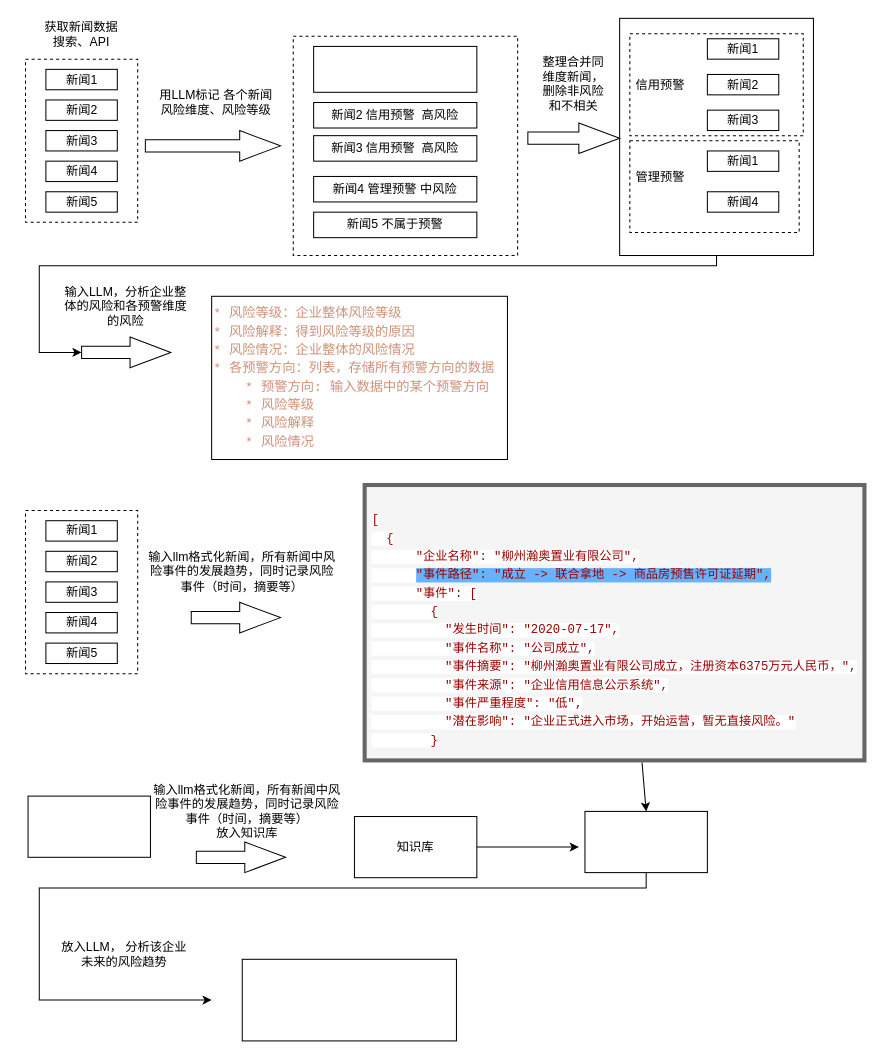
The diagram is 883 pixels wide and 1059 high, and some of its shapes have lost their labels. Each missing label, with the centre of its shape:
"Markdown格式的风险趋势报告" belongs at pixel 348 999.
"合并的prompt" belongs at pixel 645 841.
"同行业其他企业" belongs at pixel 88 826.
"新闻1 信用预警 高风险 管理预警 中风险" belongs at pixel 395 68.
